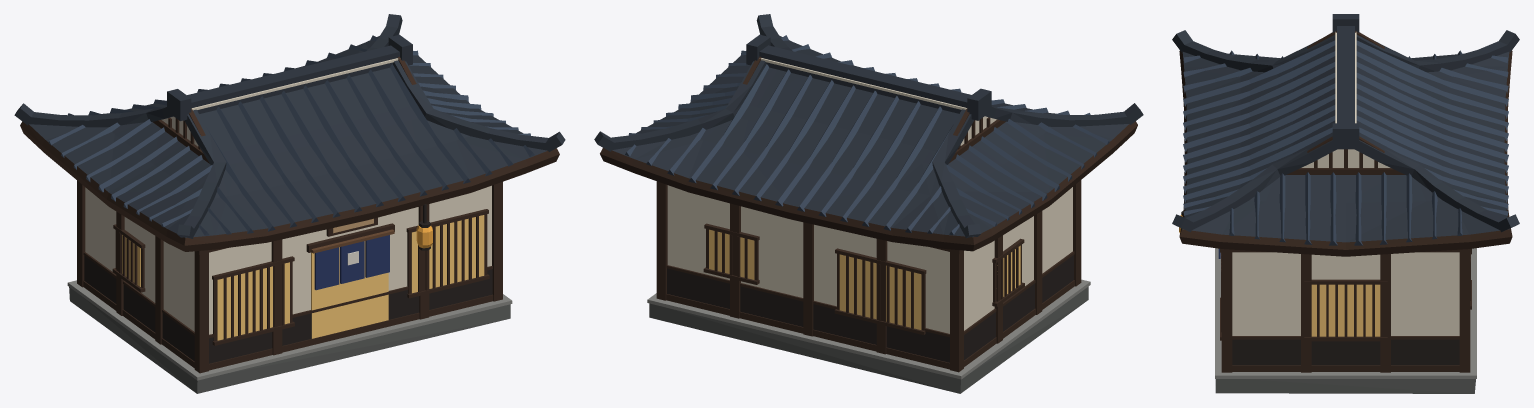
Rendered from house_village_a.fbx.
3 views of the same model, side by side, from view 1: azimuth 30°, elevation 25°; view 2: azimuth 150°, elevation 25°; view 3: azimuth 270°, elevation 25° (orthographic).
Visible parts, largest first — view 1: house_village_a; view 2: house_village_a; view 3: house_village_a.
Part boxes in pixels (x1,y1,x2,y2): house_village_a: (14, 14, 565, 393); house_village_a: (594, 14, 1143, 393); house_village_a: (1172, 14, 1519, 393).
Size of the model in its own units: 8.58 by 5.12 by 6.58.
